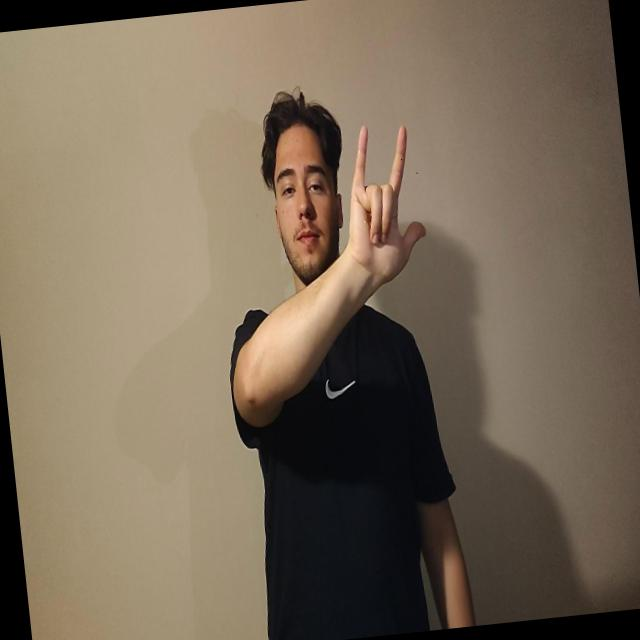iloveyou: (336, 118, 431, 292)
